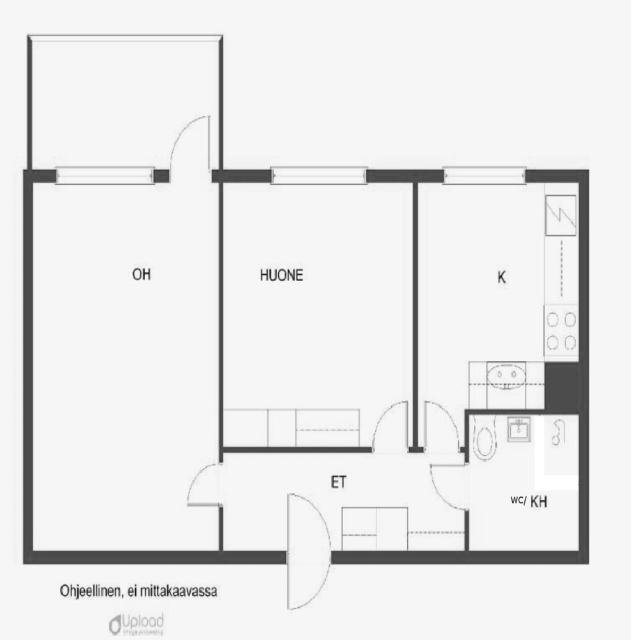door: (279, 488, 335, 618), (160, 108, 215, 183), (177, 456, 230, 519), (367, 395, 412, 460), (419, 396, 462, 460), (427, 458, 467, 512)
window: (47, 153, 161, 196), (262, 155, 376, 194), (434, 155, 534, 193)
zone: (28, 170, 227, 549), (215, 179, 419, 454), (412, 177, 586, 411), (464, 406, 586, 562)
